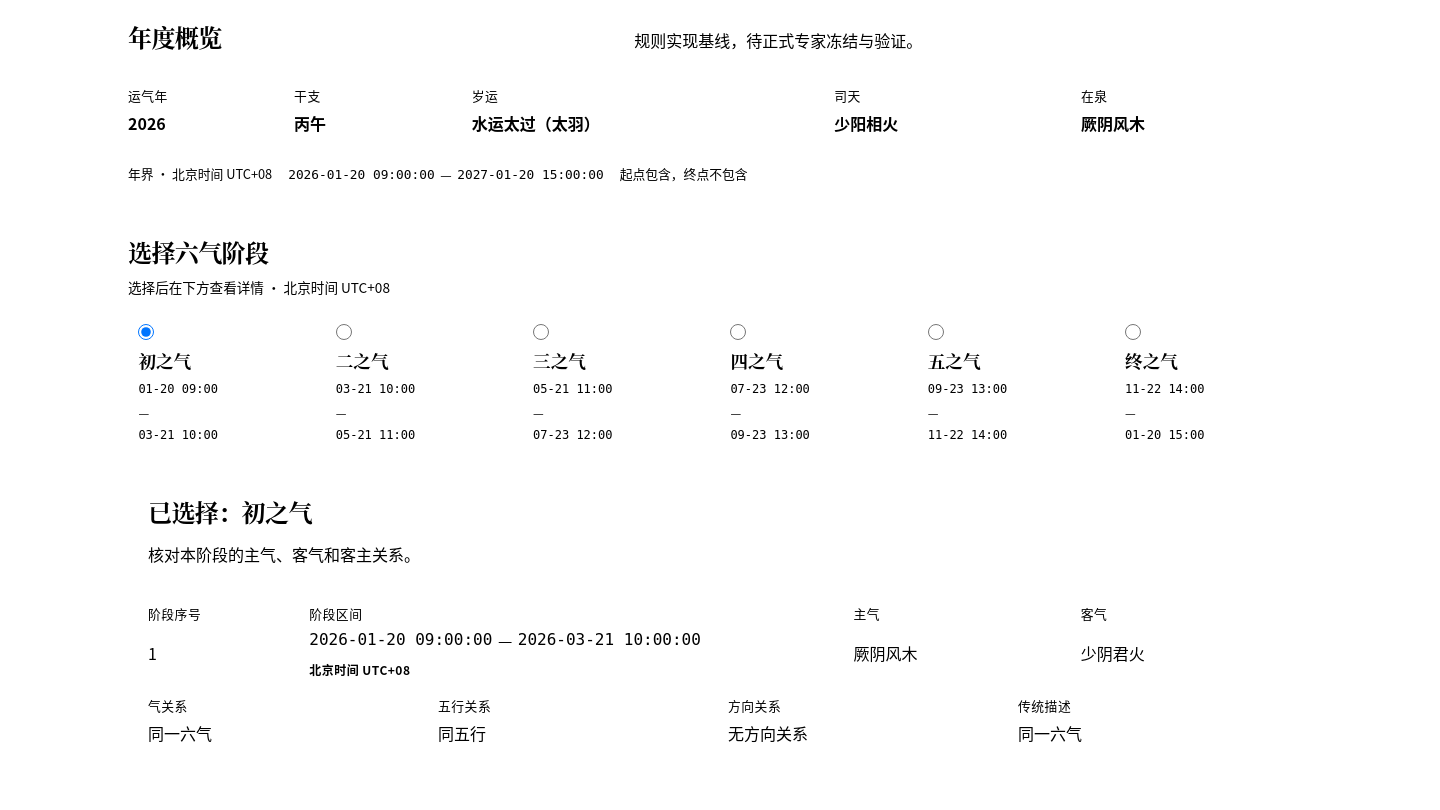
AnnualYunQiPage › changes only the single detail panel
This screenshot has width=1440, height=810.
Click the radio button labelled "三之气 05-21 11:00 — 07-23 12:00".
click(541, 332)  # box top-left (533, 324), bottom-right (549, 340)
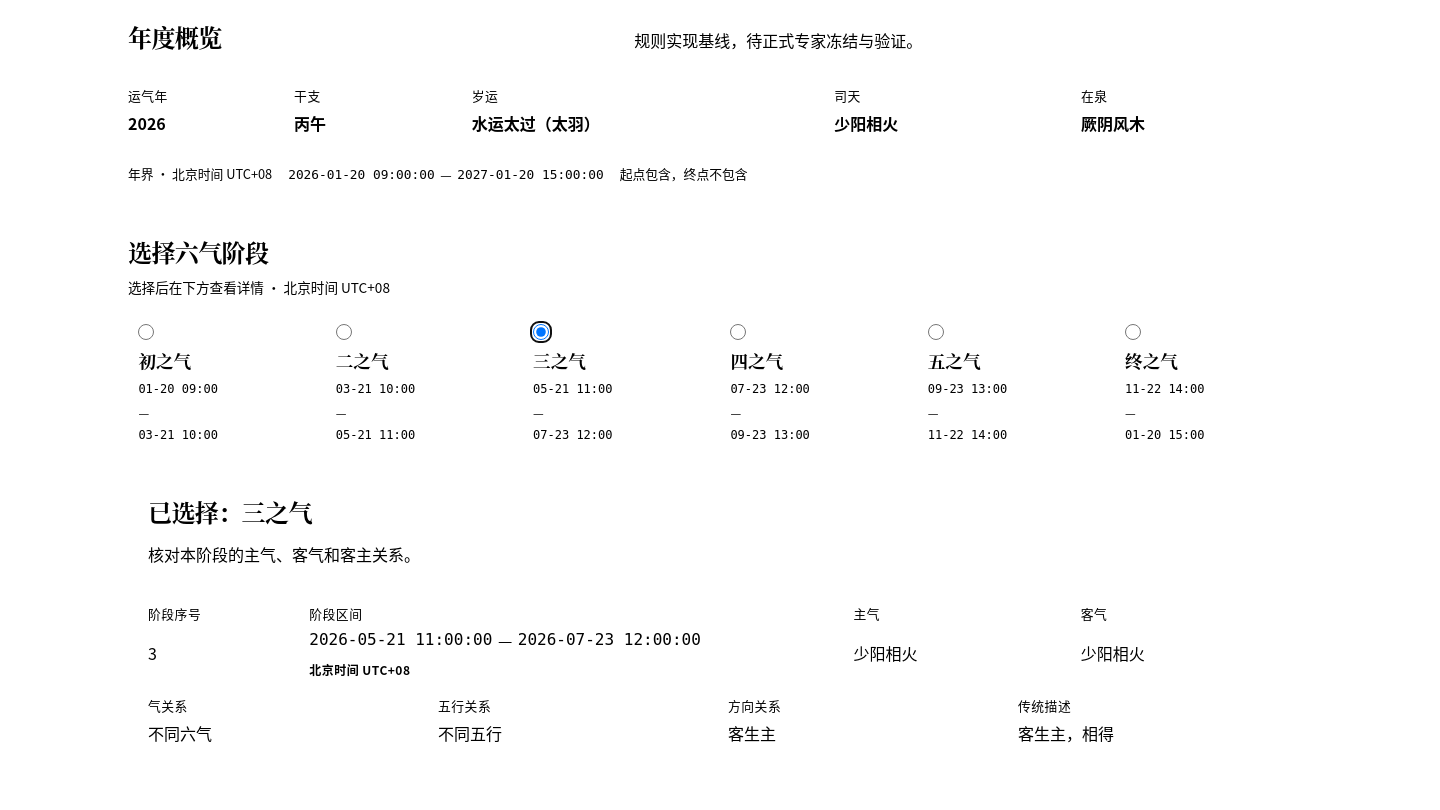
Expected: the number of elements "已选择：" is 1, top-left (148, 494), bottom-right (1145, 745)
Result: the element "已选择：三之气" is shown at top-left (148, 494), bottom-right (1145, 745)
